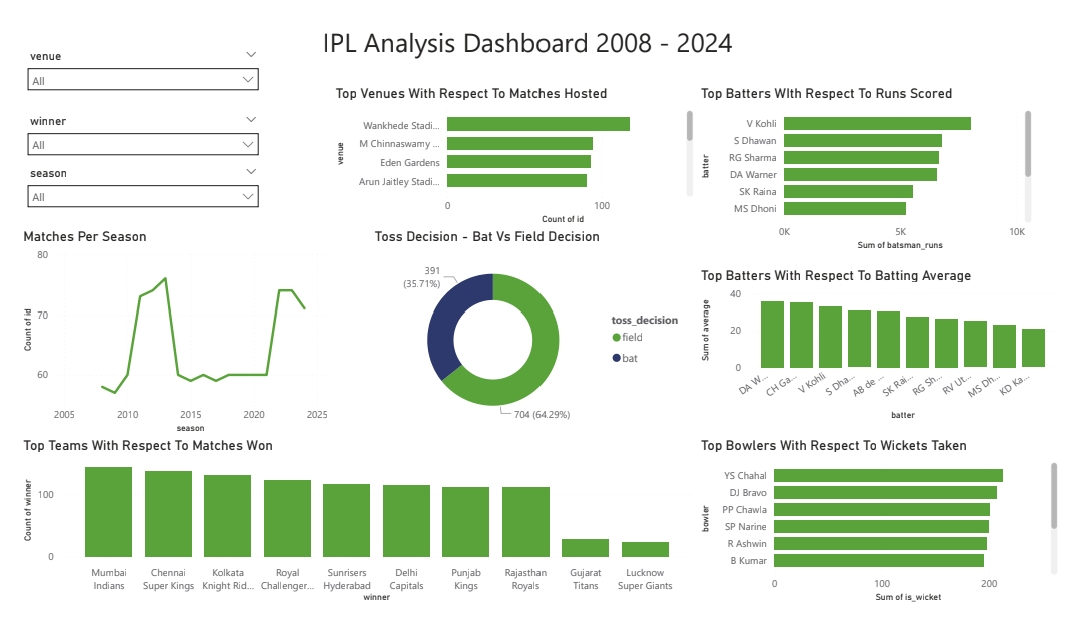

What the dashboard file says about the page in this screenshot:
{"tool":"powerbi","page":{"name":"Page 1","canvas":[1280,720],"ordinal":0},"visuals":[{"type":"columnChart","title":"Top Teams With Respect To Matches Won","fields":{"Category":["matches_clean.winner"],"Y":["CountNonNull(matches_clean.winner)"]},"box":[0,512,832,208],"z":0},{"type":"lineChart","title":"Matches Per Season","fields":{"Category":["matches_clean.season"],"Y":["CountNonNull(matches_clean.id)"]},"box":[0,256,384,256],"z":1000},{"type":"donutChart","title":"Toss Decision - Bat Vs Field Decision","fields":{"Category":["matches_clean.toss_decision"],"Y":["CountNonNull(matches_clean.toss_decision)"]},"box":[432,256,400,256],"z":2000},{"type":"clusteredBarChart","title":"Top Batters WIth Respect To Runs Scored","fields":{"Y":["Sum(deliveries_clean.batsman_runs)"],"Category":["deliveries_clean.batter"]},"box":[832,80,416,208],"z":3000},{"type":"clusteredBarChart","title":"Top Bowlers With Respect To Wickets Taken","fields":{"Category":["deliveries_clean.bowler"],"Y":["Sum(deliveries_clean.is_wicket)"]},"box":[832,512,448,208],"z":4000},{"type":"clusteredBarChart","title":"Top Venues With Respect To Matches Hosted","fields":{"Category":["matches_clean.venue"],"Y":["CountNonNull(matches_clean.id)"]},"box":[384,80,448,176],"z":5000},{"type":"clusteredColumnChart","title":"Top Batters With Respect To Batting Average","fields":{"Category":["batter_averages.batter"],"Y":["Sum(batter_averages.average)"]},"box":[832,304,448,192],"z":6000},{"type":"slicer","fields":{"Values":["matches_clean.season"]},"box":[0,176,304,80],"z":7000},{"type":"slicer","fields":{"Values":["matches_clean.venue"]},"box":[0,32,304,80],"z":8000},{"type":"slicer","fields":{"Values":["matches_clean.winner"]},"box":[0,112,304,64],"z":9000},{"type":"textbox","box":[368,0,544,64],"z":10000}]}

Visuals, with their boxes in screenshot pixels (x1, y1, x2, y2), scaled from the page's 1280x720 canvas onto the 1080x624 screenshot:
"Top Teams With Respect To Matches Won" columnChart: BBox(0, 444, 702, 623)
"Matches Per Season" lineChart: BBox(0, 222, 324, 444)
"Toss Decision - Bat Vs Field Decision" donutChart: BBox(364, 222, 702, 444)
"Top Batters WIth Respect To Runs Scored" clusteredBarChart: BBox(702, 69, 1053, 250)
"Top Bowlers With Respect To Wickets Taken" clusteredBarChart: BBox(702, 444, 1079, 623)
"Top Venues With Respect To Matches Hosted" clusteredBarChart: BBox(324, 69, 702, 222)
"Top Batters With Respect To Batting Average" clusteredColumnChart: BBox(702, 263, 1079, 430)
slicer - matches_clean.season: BBox(0, 153, 256, 222)
slicer - matches_clean.venue: BBox(0, 28, 256, 97)
slicer - matches_clean.winner: BBox(0, 97, 256, 153)
textbox: BBox(310, 0, 770, 55)
